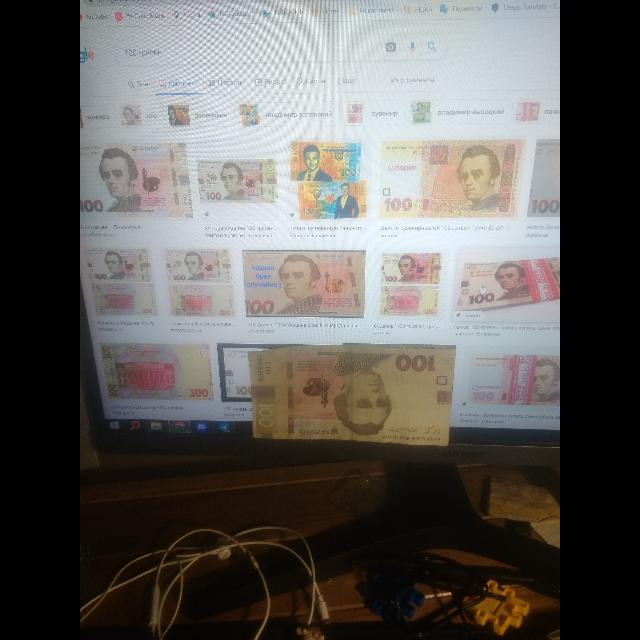100uah: (250, 346, 454, 444), (380, 142, 524, 219)
